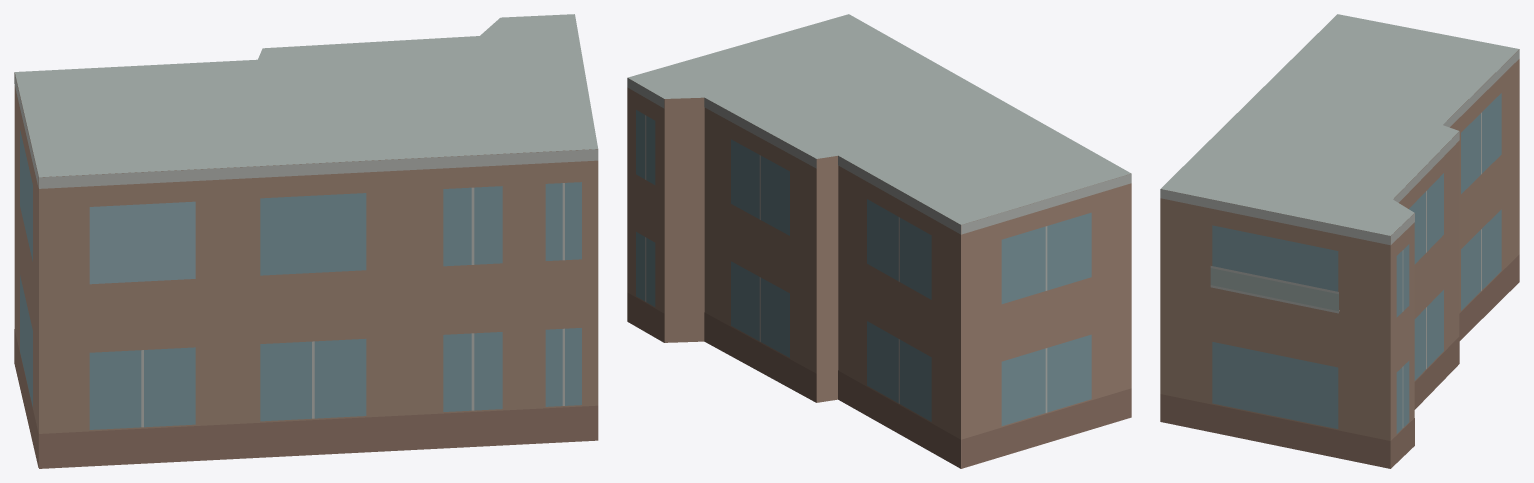
The model's file is survey-upis-32777470.glb.
The picture shows the model from 3 angles, left to right: view 1: azimuth 30°, elevation 25°; view 2: azimuth 150°, elevation 25°; view 3: azimuth 270°, elevation 25°; orthographic projection. The views are drawn at different scales.
Parts seen in each view (by area): view 1: survey-upis-32777470.tmp; view 2: survey-upis-32777470.tmp; view 3: survey-upis-32777470.tmp.
Part boxes in pixels (x1=…): survey-upis-32777470.tmp: x1=14, y1=14, x2=598, y2=468; survey-upis-32777470.tmp: x1=627, y1=14, x2=1131, y2=468; survey-upis-32777470.tmp: x1=1160, y1=14, x2=1519, y2=468.
Size of the model in its own units: 12.48 by 6.1 by 8.54.
